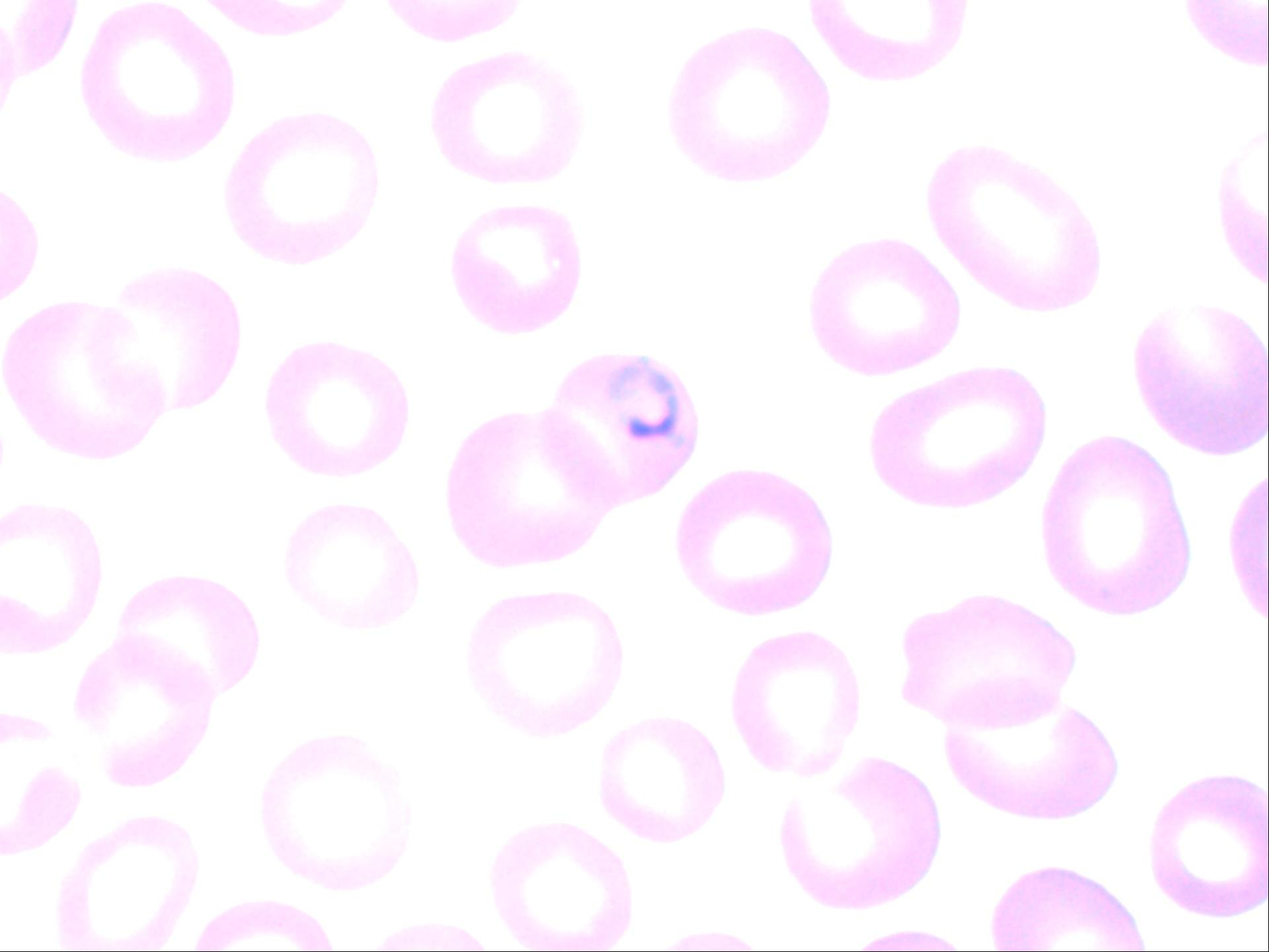Infected: (555, 352, 695, 497)
Uninfected: (929, 146, 1100, 311), (1042, 437, 1186, 615), (870, 367, 1044, 508), (7, 301, 164, 456), (901, 595, 1074, 735), (446, 414, 605, 565), (784, 757, 939, 910), (671, 30, 826, 180), (809, 234, 966, 382), (83, 5, 231, 159), (260, 736, 407, 891), (227, 114, 377, 262), (676, 471, 829, 614), (467, 591, 621, 733), (75, 639, 219, 789), (944, 702, 1116, 818), (1135, 304, 1264, 454), (110, 575, 256, 707), (432, 53, 576, 184), (112, 267, 240, 414), (266, 341, 405, 474), (730, 636, 859, 778), (60, 820, 198, 952), (491, 826, 628, 951), (1148, 778, 1266, 914), (285, 505, 415, 628), (451, 207, 577, 332), (599, 717, 721, 844), (2, 504, 100, 653)
